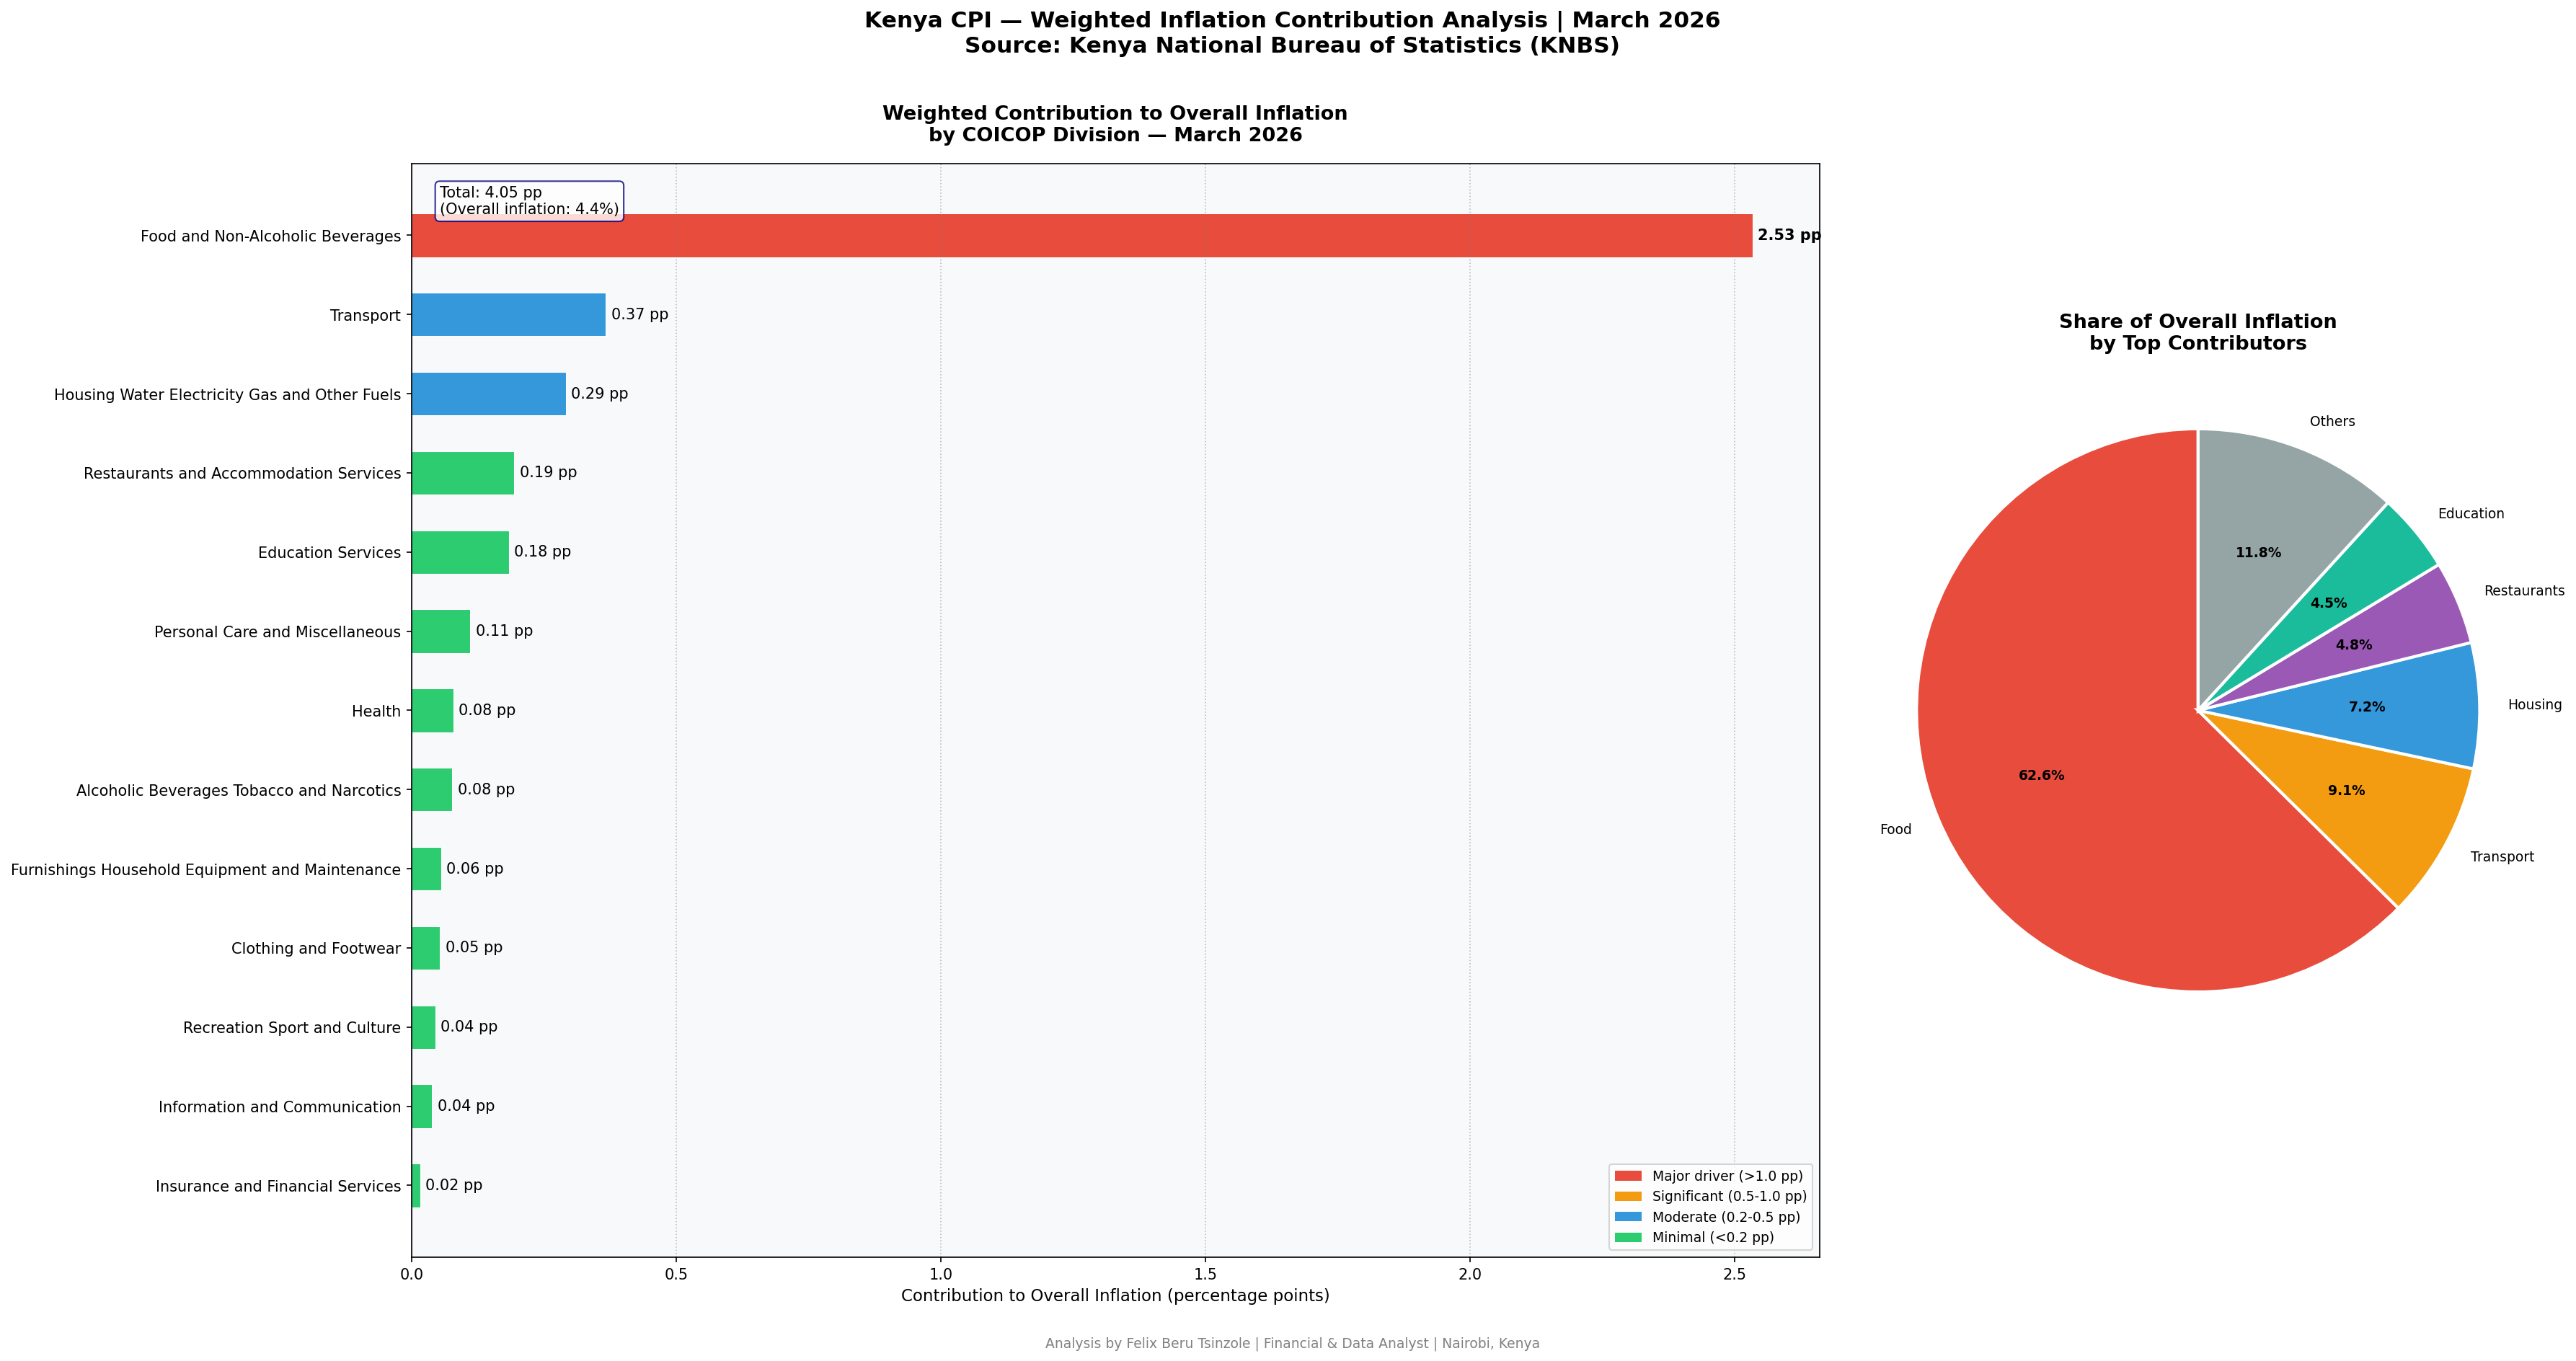

The page's visual inventory and layout, read from the dashboard file:
{"tool":"powerbi","page":{"name":"Weighted Impact","canvas":[1280,720],"ordinal":4},"visuals":[{"type":"textbox","box":[49.1,0,1230.2,77.5],"z":0},{"type":"cardVisual","fields":{"Data":["Divisions.Food Contribution"]},"box":[49.1,77.5,423.3,103.9],"z":1},{"type":"cardVisual","fields":{"Data":["Divisions.Food Share Percent"]},"box":[878.7,77.5,400.6,103.9],"z":2},{"type":"cardVisual","fields":{"Data":["Sum(Divisions.Total Weighted Contribution)"]},"box":[472.4,77.5,406.3,103.9],"z":3},{"type":"clusteredBarChart","title":"Weighted Contribution to Overall Inflation (percentage points)","fields":{"Category":["Divisions.Division"],"Y":["Sum(Divisions.Weighted_Contribution)"]},"box":[0,181.4,676.5,289.1],"z":4},{"type":"donutChart","title":"Share of Total Inflation by Division","fields":{"Category":["Divisions.Division"],"Y":["Sum(Divisions.Weighted_Contribution)"]},"box":[665.2,181.4,614.2,289.1],"z":5},{"type":"textbox","box":[506.5,470.6,772.9,249.5],"z":6},{"type":"textbox","box":[0,470.6,472.4,249.5],"z":7}]}

Visuals, with their boxes on the page's 1280x720 design canvas (x1, y1, x2, y2). These are canvas units, not pixel positions in the 2576x1361 screenshot, which may show the page scaled, cropped or inside an application window:
textbox: (49,0,1279,78)
cardVisual - Divisions.Food Contribution: (49,78,472,181)
cardVisual - Divisions.Food Share Percent: (879,78,1279,181)
cardVisual - Sum(Divisions.Total Weighted Contribution): (472,78,879,181)
"Weighted Contribution to Overall Inflation (percentage points)" clusteredBarChart: (0,181,676,470)
"Share of Total Inflation by Division" donutChart: (665,181,1279,470)
textbox: (506,471,1279,720)
textbox: (0,471,472,720)
